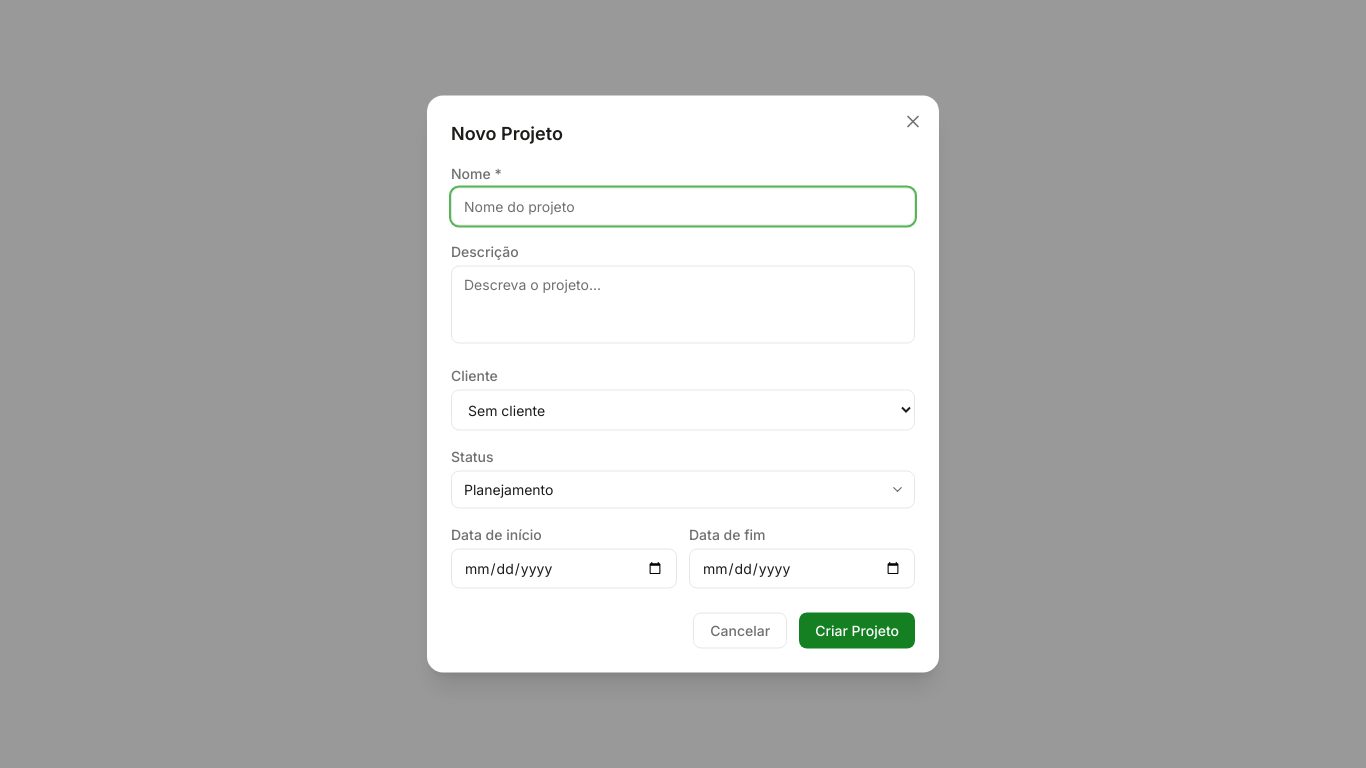
ProjectDialog › should show the server message and not report success when creation fails
Type "Projeto Levedura" into the field labelled "Nome *" at (683, 206), box x1=451 y1=188 x2=915 y2=226
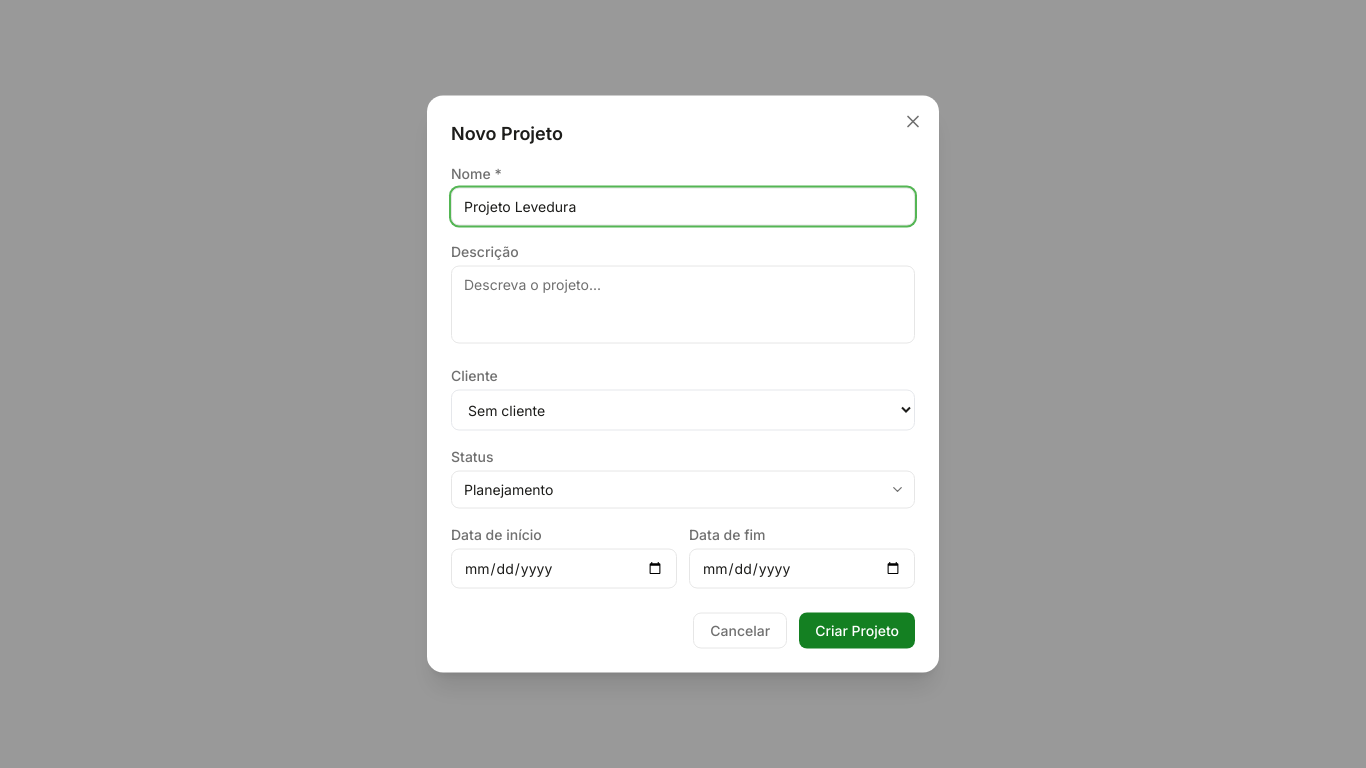
Click the button "Criar Projeto" at (857, 630), box x1=799 y1=612 x2=915 y2=648
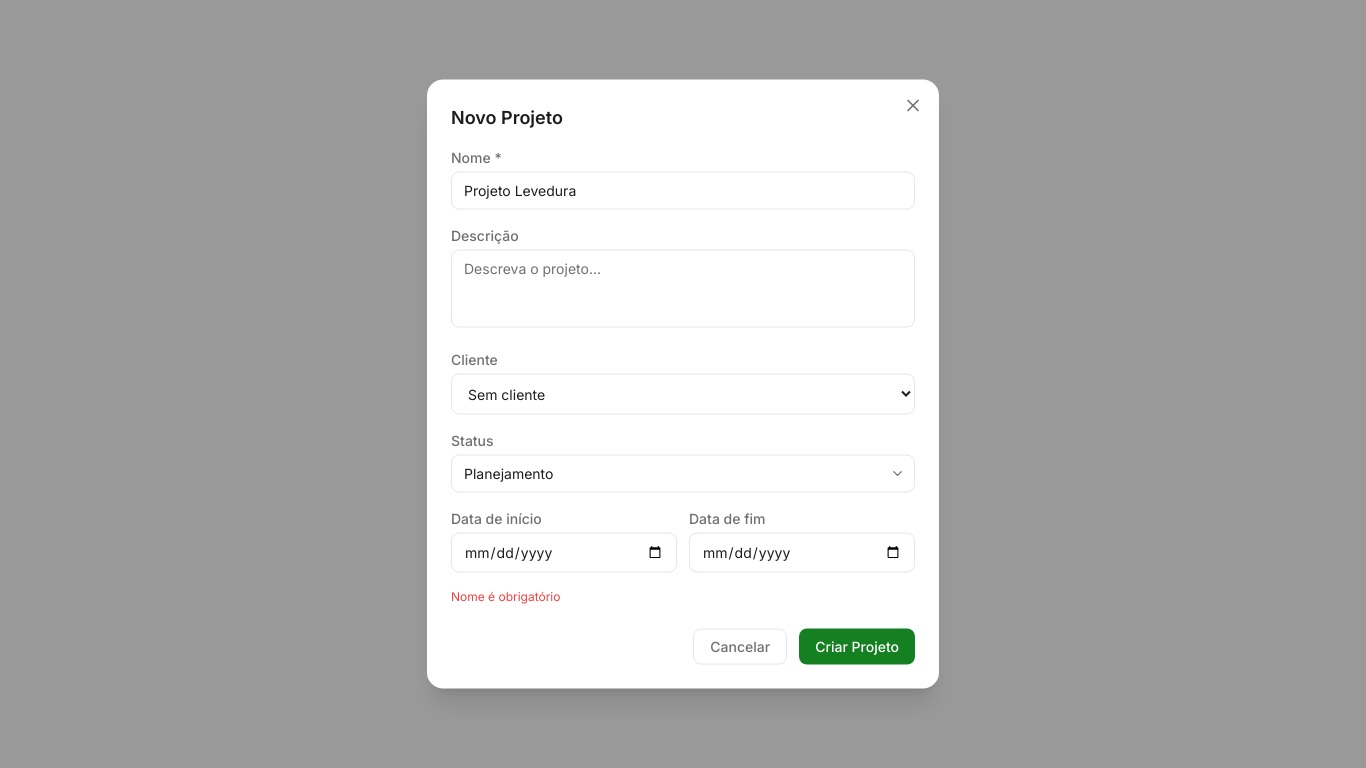
Expected: the text "Nome é obrigatório" is shown, x1=451 y1=588 x2=560 y2=604
